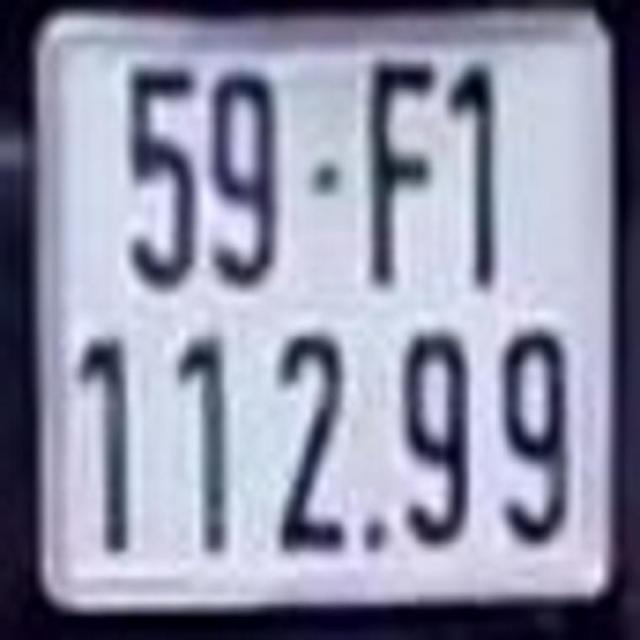1: (76, 330, 132, 553), (173, 332, 230, 548), (448, 61, 499, 284)
2: (274, 332, 348, 540)
5: (132, 57, 200, 289)
9: (498, 324, 572, 540), (212, 68, 280, 290), (407, 326, 465, 540)
F: (366, 56, 441, 292)
